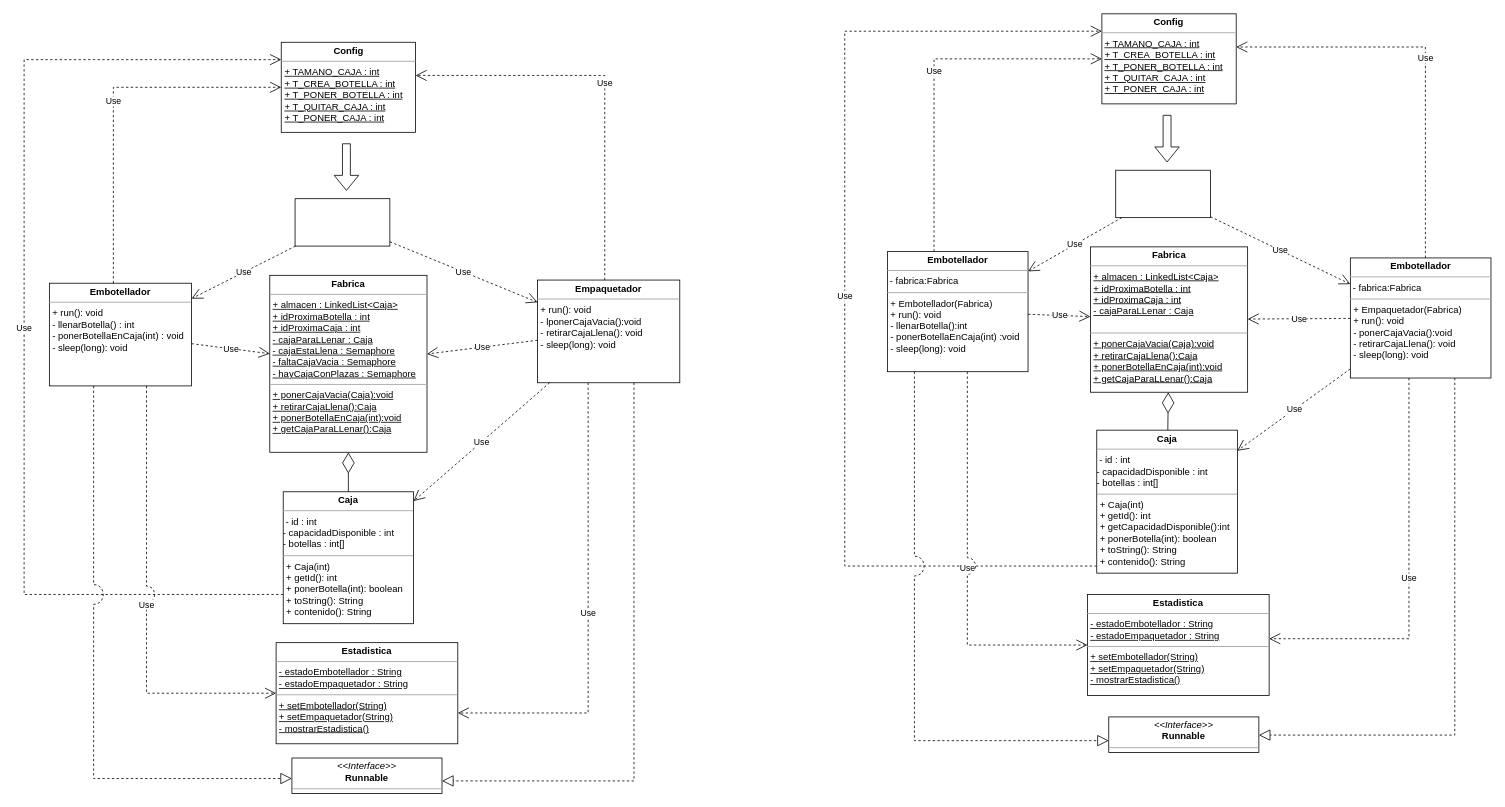
This 1505x807 diagram has some shape labels left out. Here are the shapes that lost their labels. From the top down, the box of each, then its label:
(1115, 169, 1211, 218): Reto7_2B_B + main(String)
(294, 198, 390, 246): Reto7_2B_A + main(String)
